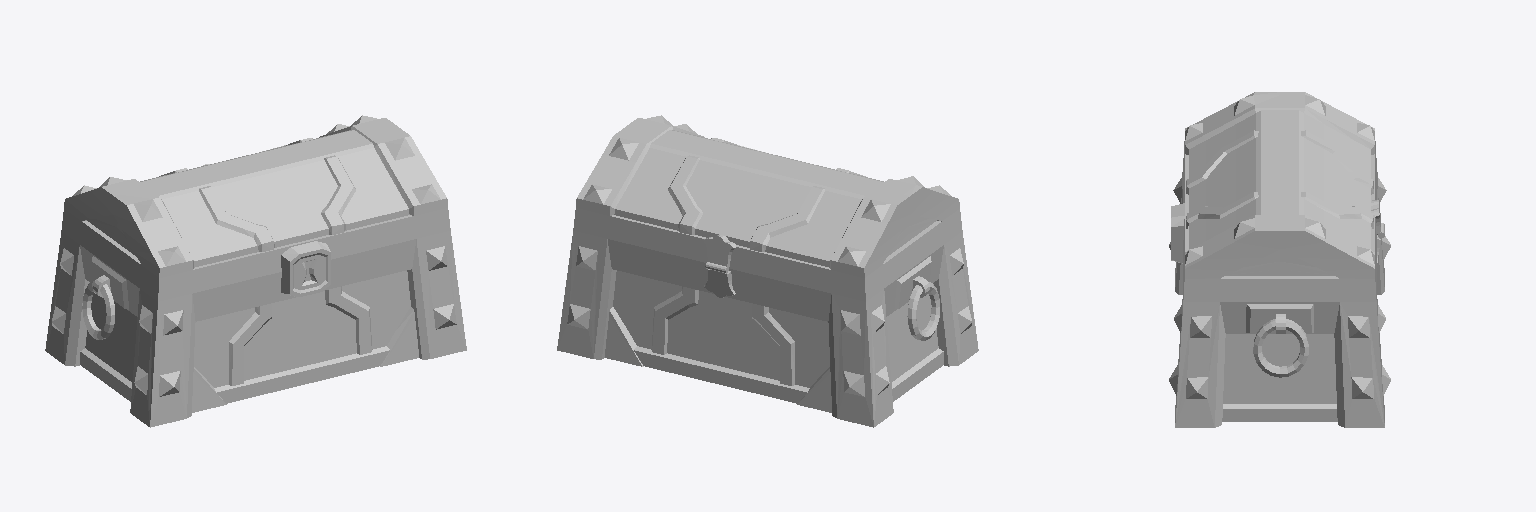
File: Chest_Wood.obj
3 renders of one model, left to right at view 1: azimuth 30°, elevation 25°; view 2: azimuth 150°, elevation 25°; view 3: azimuth 270°, elevation 25°, orthographic.
Visible parts, largest first — view 1: Chest_Wood_Base, Chest_Wood_Lid; view 2: Chest_Wood_Base, Chest_Wood_Lid; view 3: Chest_Wood_Lid, Chest_Wood_Base.
Part boxes in pixels (left/top/right/bottom): Chest_Wood_Base: left=45, top=231, right=466, bottom=427; Chest_Wood_Lid: left=61, top=115, right=450, bottom=301; Chest_Wood_Base: left=557, top=231, right=978, bottom=427; Chest_Wood_Lid: left=573, top=115, right=962, bottom=301; Chest_Wood_Lid: left=1171, top=92, right=1380, bottom=301; Chest_Wood_Base: left=1169, top=172, right=1390, bottom=427.
Size of the model in its own units: 1.28 by 0.7152 by 0.7554.